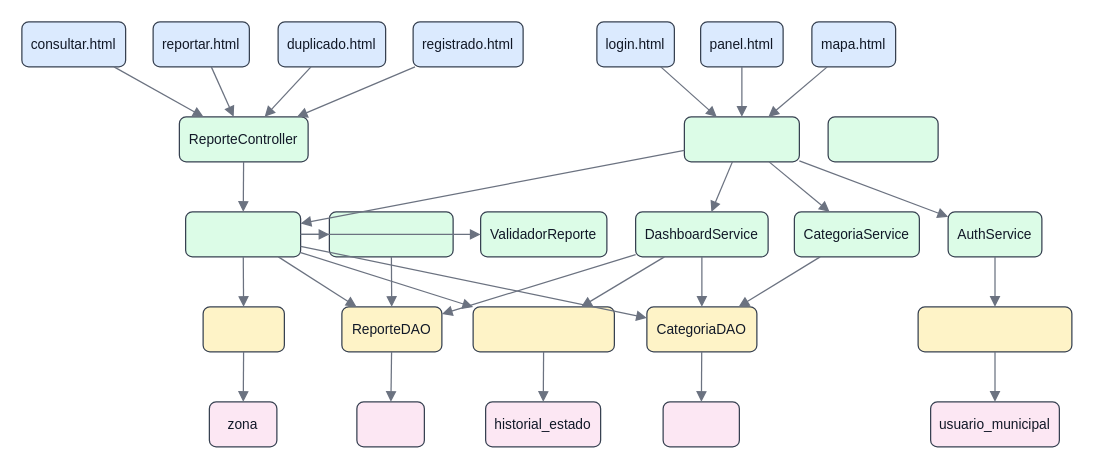
The diagram is 1094 pixels wide and 469 high, and some of its shapes have lost their labels. The shapes that lost their labels are listed below. From the top down, each one's centre as x and y in pixels, then its label:
At (741,139): "PanelController".
At (882,139): "ManejoErrores".
At (242,234): "ReporteService".
At (390,234): "ControlAntiSpam".
At (243,329): "ZonaDAO".
At (543,329): "HistorialEstadoDAO".
At (994,329): "UsuarioMunicipalDAO".
At (390,424): "reporte".
At (700,424): "categoria".
